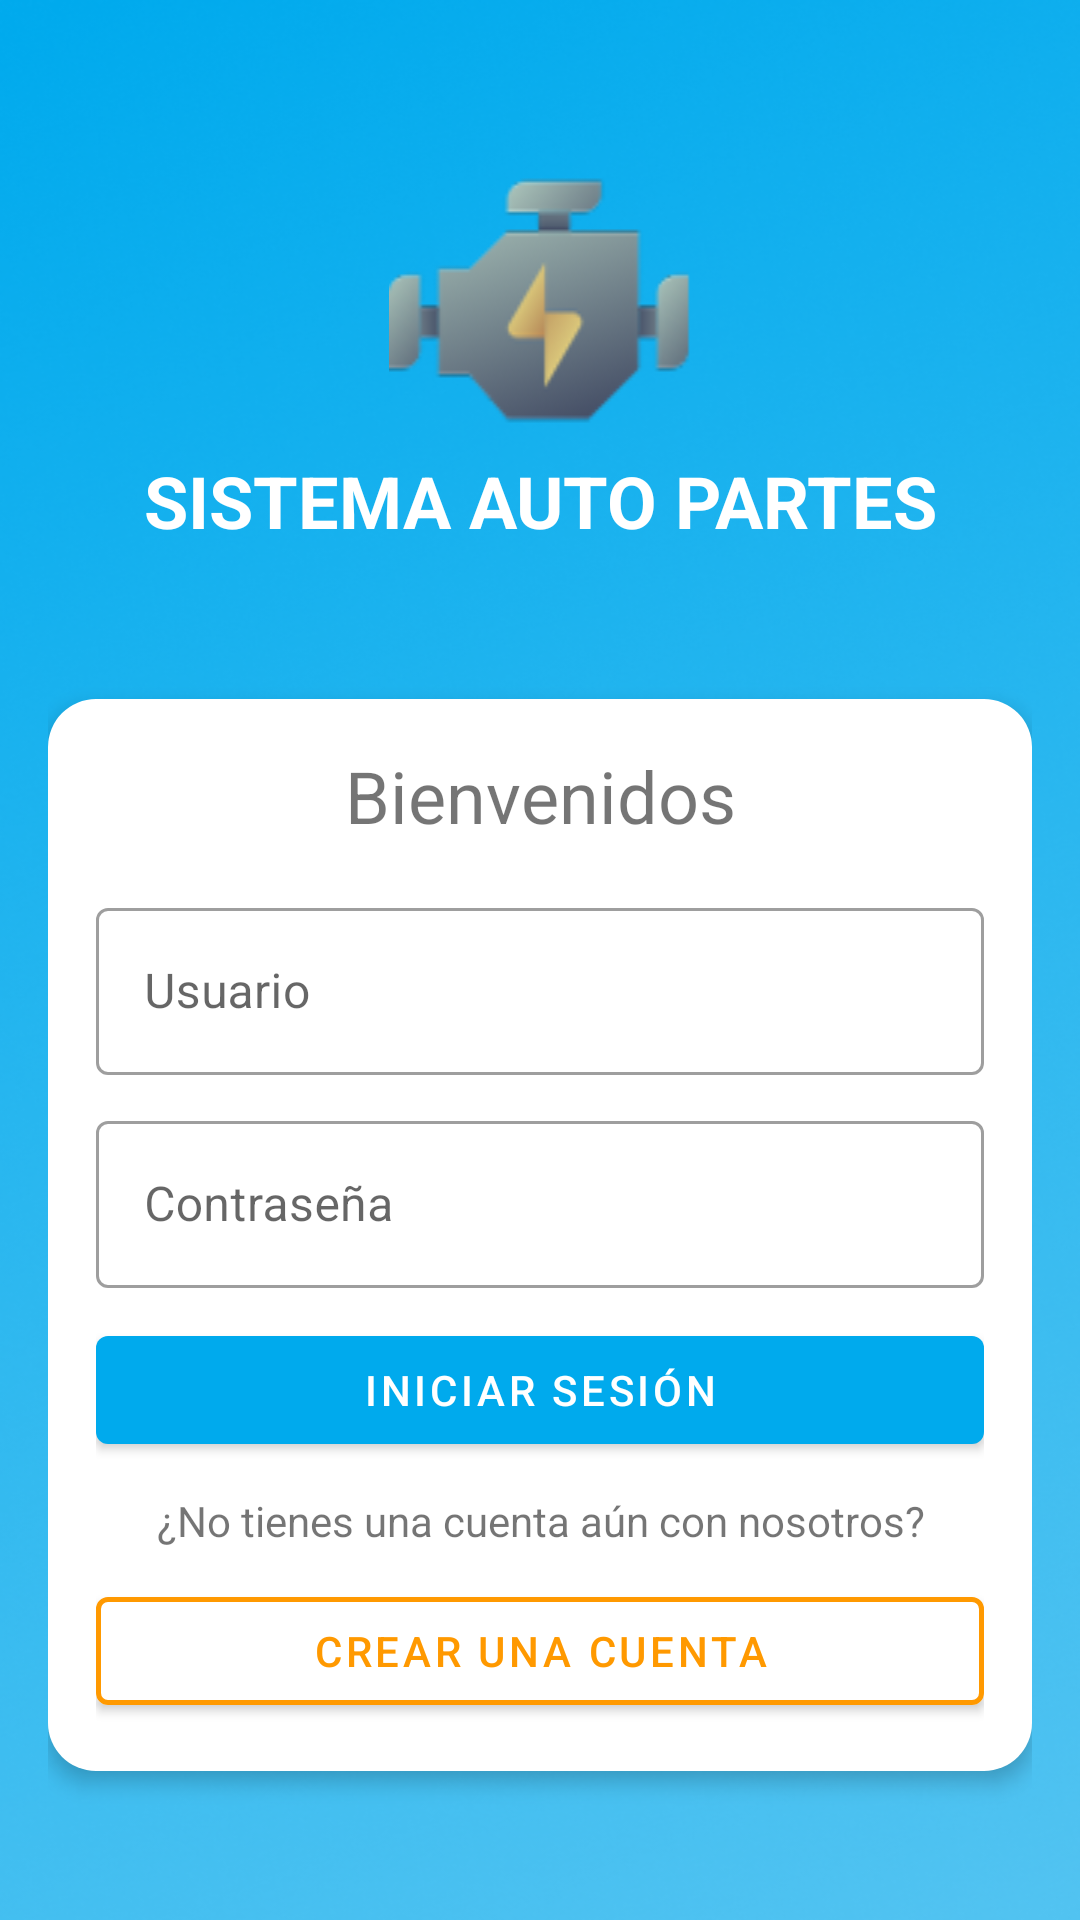

Where to tap for icons on this 1080x1920 app screen, as [x,y]:
engine: [539,300]
